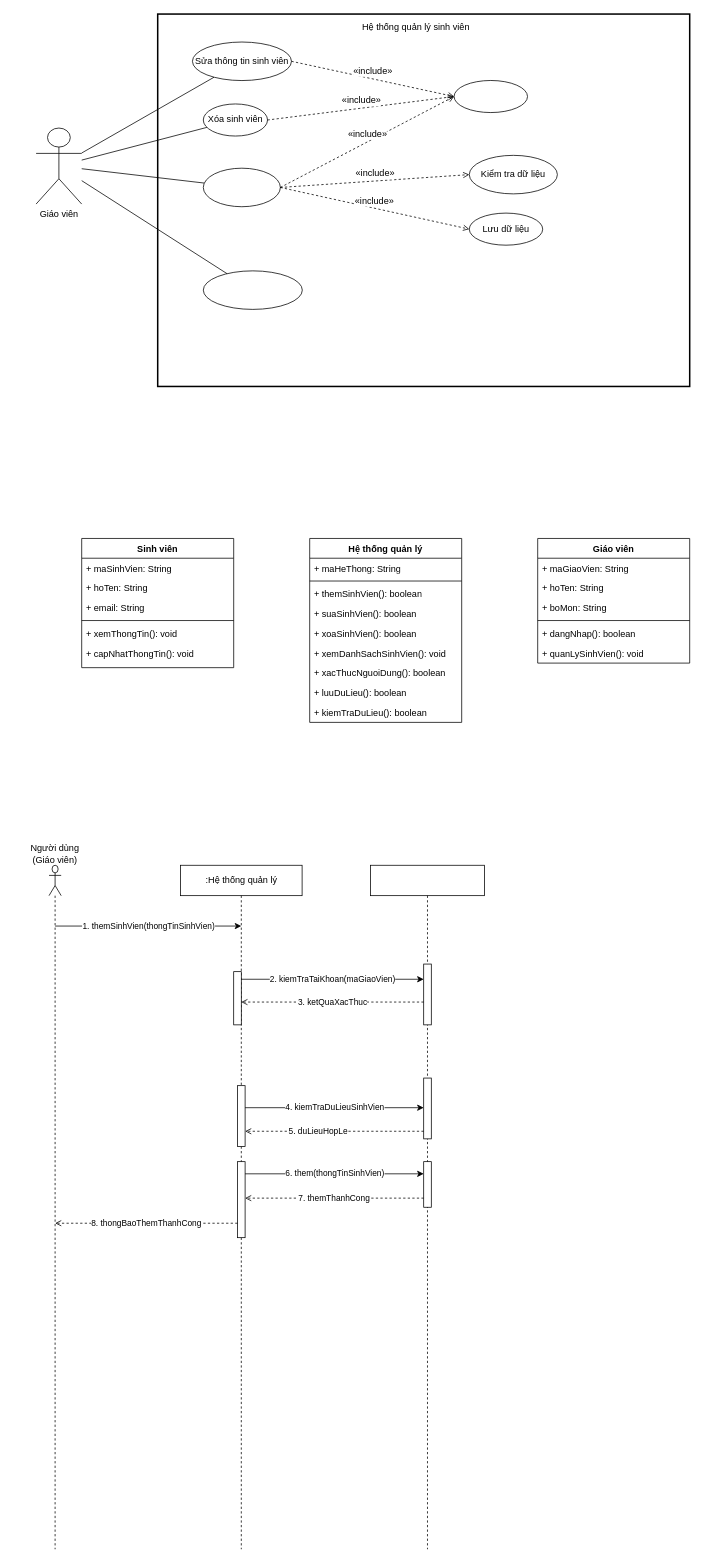
Image size: 703x1563. Some labels were removed from this diagram. Here are the shapes that lost their labels. From the top down, the centre of each, then its label:
At (490,96): "Xác thực người dùng".
At (241,187): "Thêm sinh viên".
At (252,289): "Xem danh sách sinh viên".
At (427,1206): ":Cơ sở dữ liệu".
